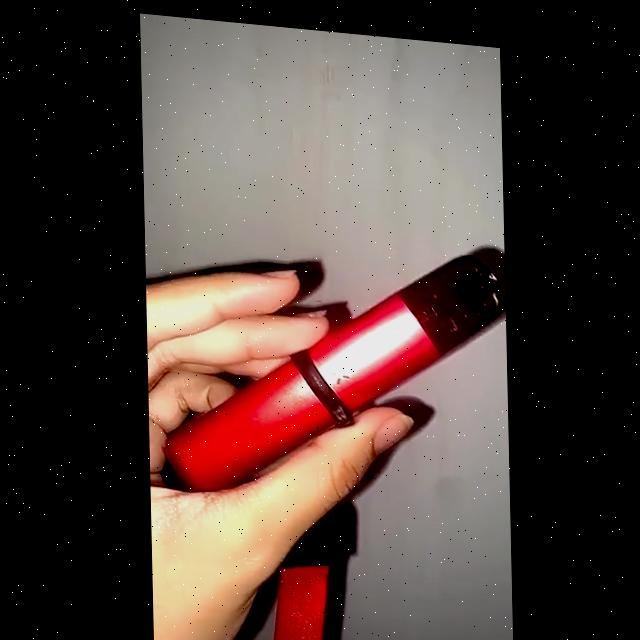vape: (156, 222, 508, 511)
